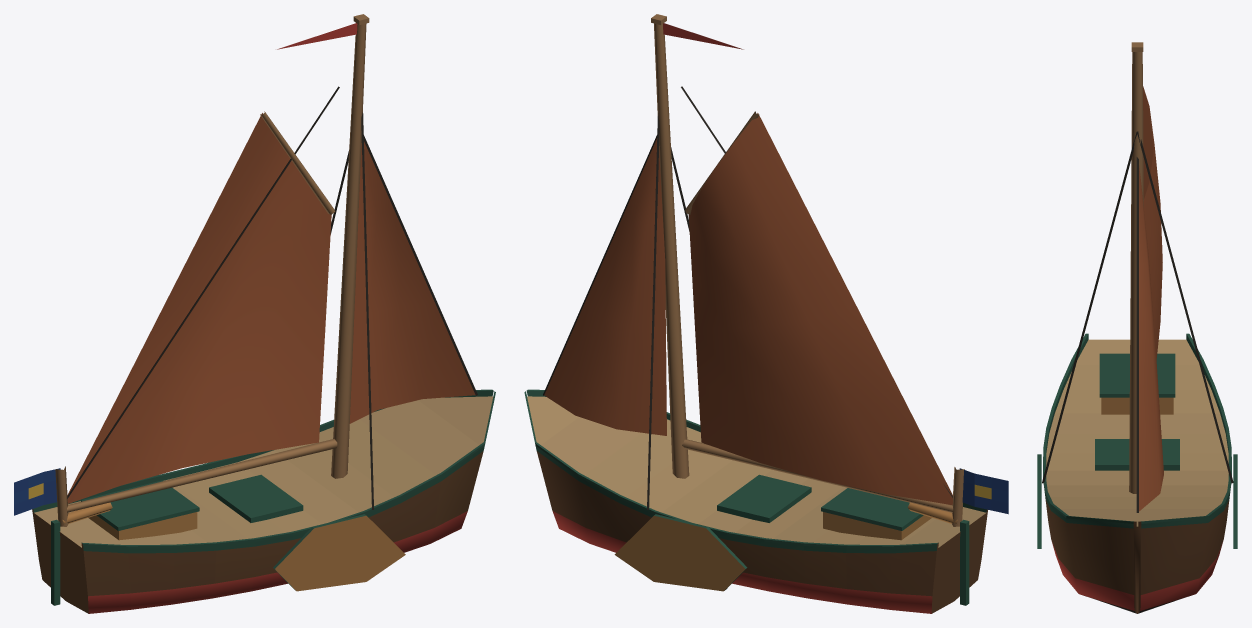
File: hull_eur_botter_large.glb
3 renders of one model, left to right at view 1: azimuth 30°, elevation 25°; view 2: azimuth 150°, elevation 25°; view 3: azimuth 270°, elevation 25°, orthographic.
Parts seen in each view (by area): view 1: sail_main, hull, sail_jib, deck, mast, boom_spar, rigging, flag, gaff; view 2: sail_main, hull, sail_jib, deck, mast, flag, rigging, boom_spar; view 3: hull, sail_jib, deck, mast, rigging, sail_main.
Boxes of the visible parts, bbox=[...] form: sail_main: bbox=[67, 113, 331, 503]; hull: bbox=[32, 389, 495, 613]; sail_jib: bbox=[349, 141, 475, 423]; deck: bbox=[62, 474, 303, 540]; mast: bbox=[55, 14, 369, 526]; boom_spar: bbox=[67, 86, 339, 512]; rigging: bbox=[330, 112, 477, 509]; flag: bbox=[14, 23, 357, 515]; gaff: bbox=[260, 111, 334, 214]; sail_main: bbox=[688, 113, 952, 504]; hull: bbox=[524, 389, 987, 613]; sail_jib: bbox=[544, 138, 666, 435]; deck: bbox=[717, 474, 957, 540]; mast: bbox=[651, 14, 964, 526]; flag: bbox=[663, 23, 1008, 514]; rigging: bbox=[543, 113, 689, 509]; boom_spar: bbox=[681, 86, 953, 512]; hull: bbox=[1037, 333, 1237, 613]; sail_jib: bbox=[1139, 165, 1163, 511]; deck: bbox=[1095, 353, 1179, 470]; mast: bbox=[1129, 42, 1143, 493]; rigging: bbox=[1042, 131, 1233, 512]; sail_main: bbox=[1143, 86, 1162, 359].
Size of the model in its own units: 19.83 by 20.74 by 7.05.
